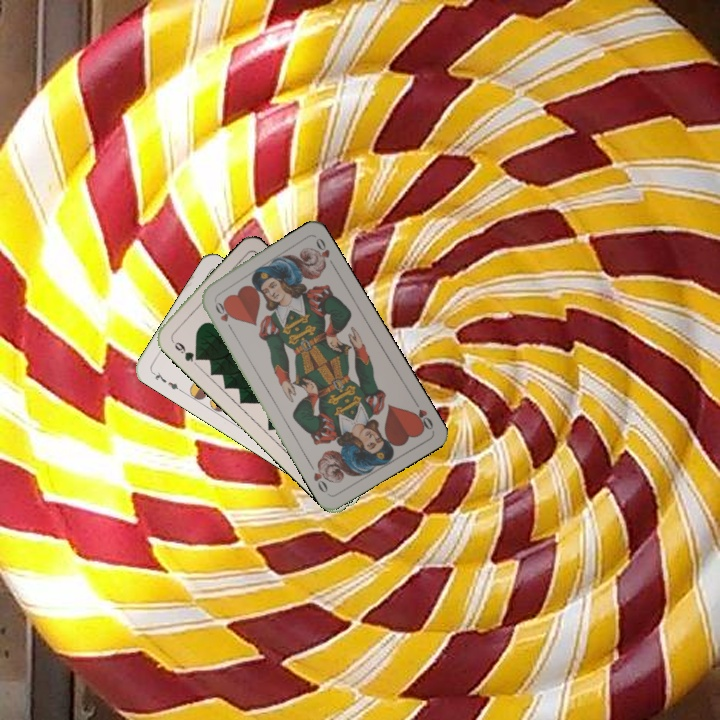E7: (148, 367, 184, 394)
G9: (167, 335, 203, 365)
HO: (409, 396, 436, 433), (210, 296, 235, 333)
